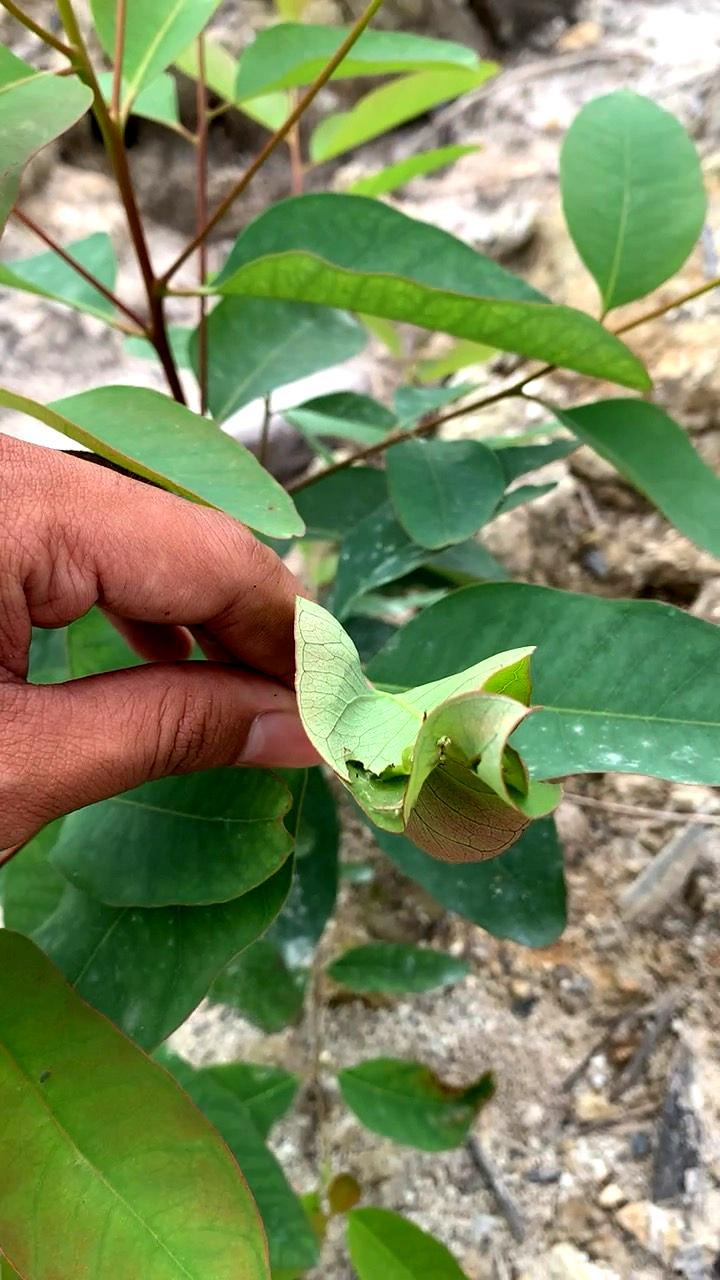Leaf Roller - Leaf: (283, 558, 569, 882)
